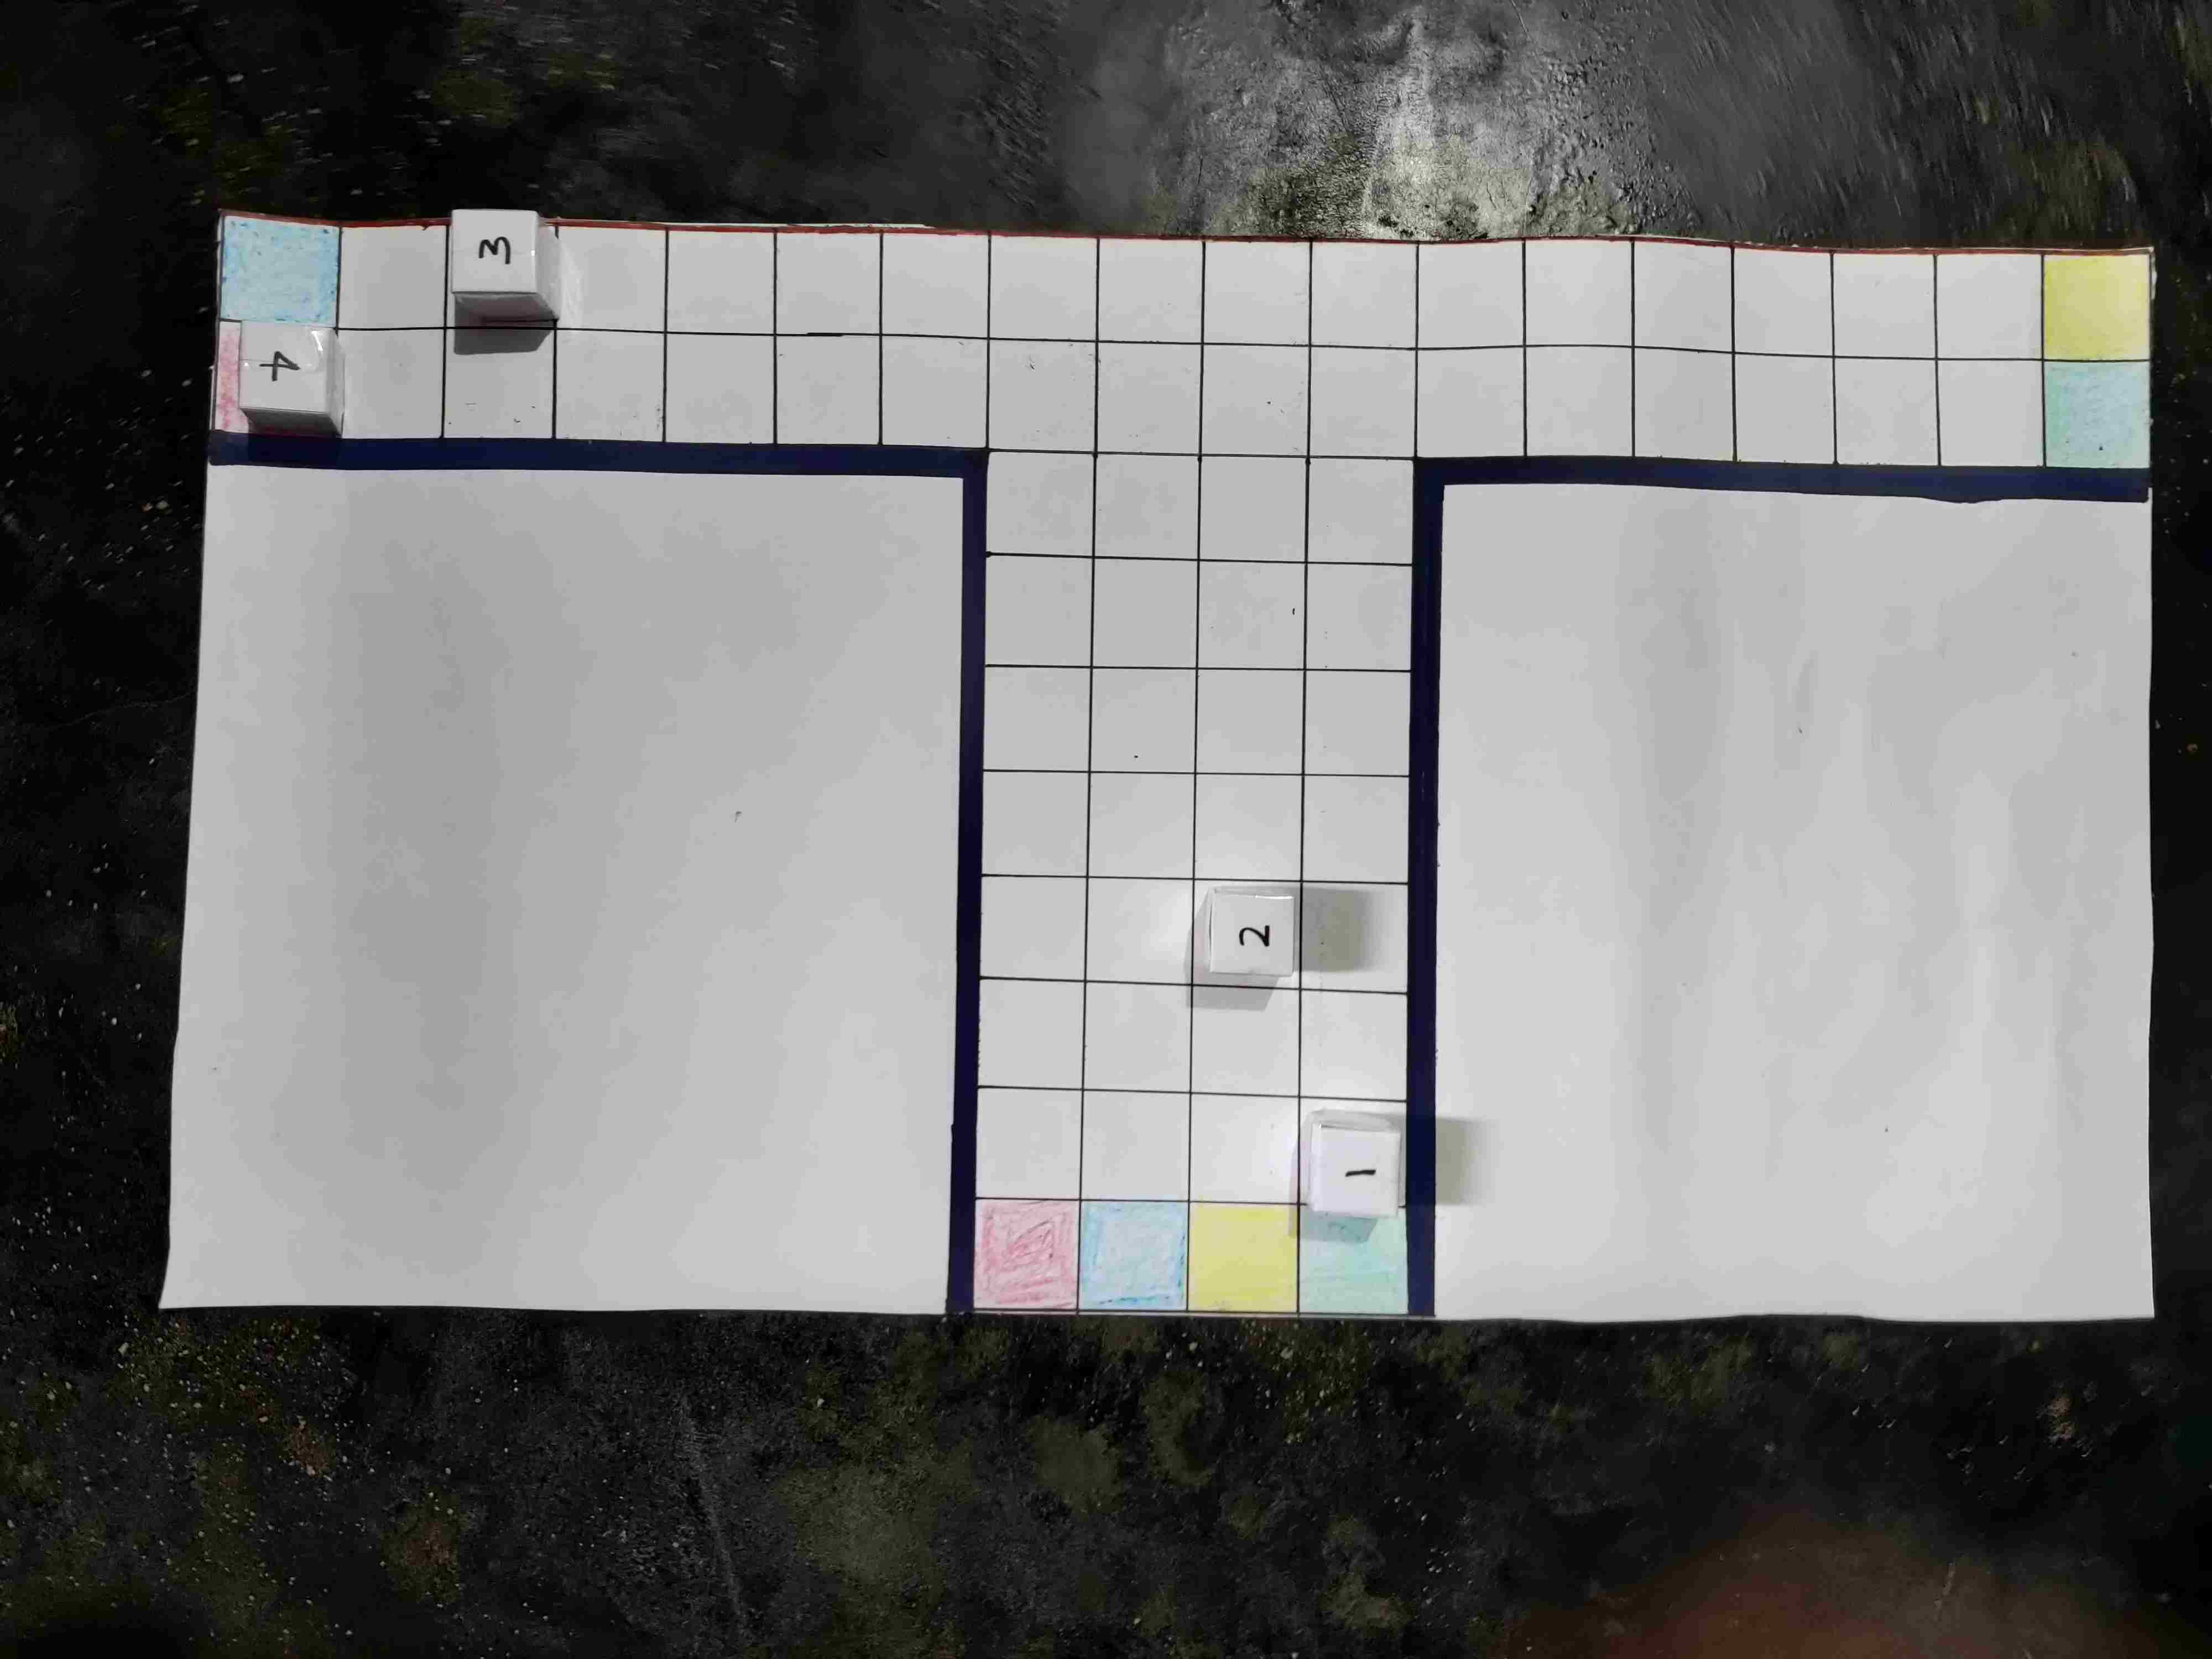arena: (139, 289, 2102, 1415)
bot: (1001, 1192, 1087, 1283), (430, 1162, 517, 1249), (1909, 1209, 1998, 1295), (1097, 1317, 1183, 1399)
